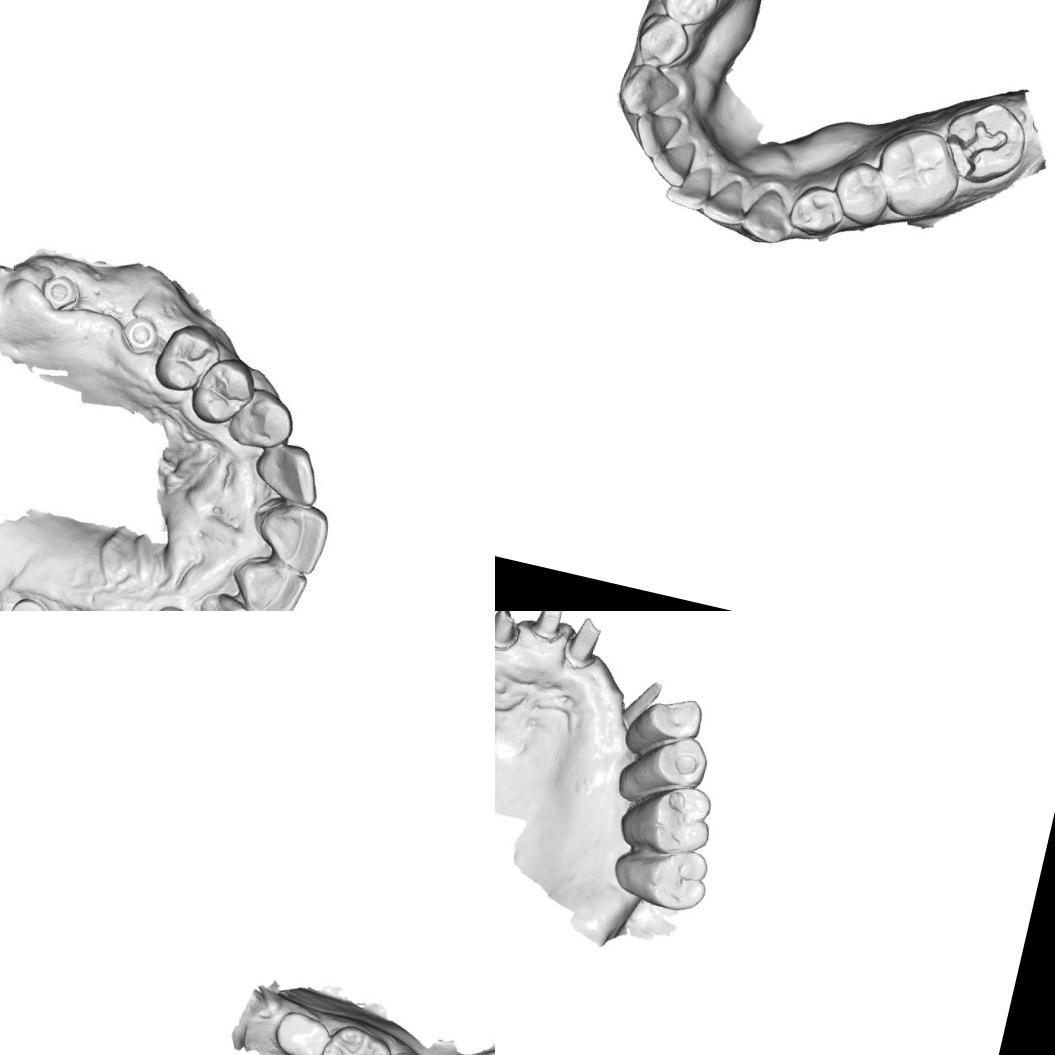canine: (221, 382, 299, 463), (612, 56, 684, 126), (736, 182, 800, 250)
crown: (616, 672, 667, 736), (560, 612, 606, 675), (527, 611, 567, 645), (495, 611, 522, 654)
implant: (34, 262, 84, 319), (118, 310, 164, 356), (4, 587, 55, 611), (93, 601, 142, 611)
incisor: (258, 498, 330, 574), (236, 554, 308, 611), (260, 444, 322, 504), (696, 171, 754, 233), (661, 158, 721, 214), (645, 131, 700, 192), (628, 105, 684, 164), (191, 587, 268, 611)
inlay: (937, 110, 1017, 190)
molar: (866, 120, 970, 230), (616, 772, 720, 864), (606, 834, 714, 917), (269, 1006, 332, 1055), (313, 1019, 395, 1055)
premolar: (614, 724, 712, 817), (621, 686, 706, 767), (152, 321, 224, 400), (826, 155, 896, 232), (194, 352, 256, 427), (783, 178, 852, 243), (631, 9, 696, 77), (651, 0, 727, 32)
